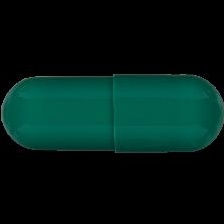42549-542: (0, 0, 224, 224)
